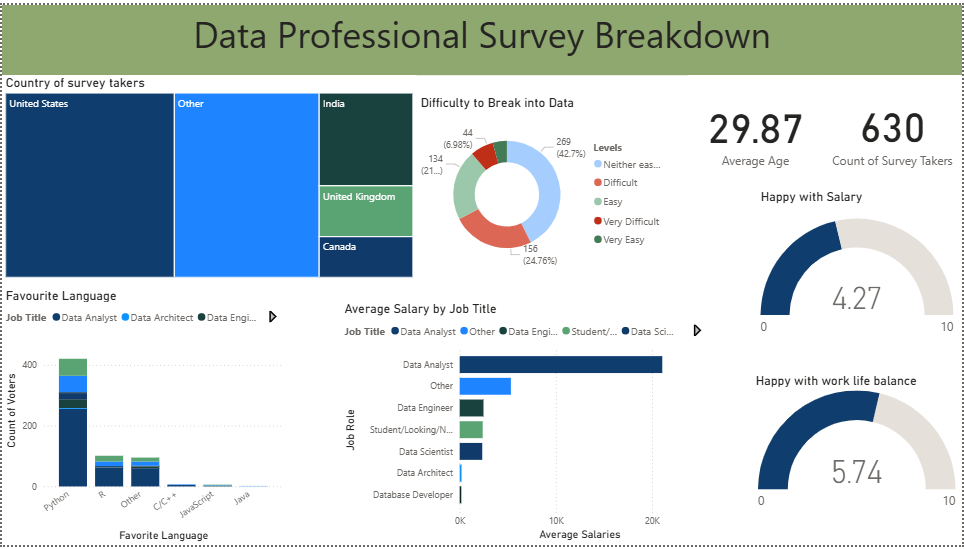

The dashboard page shown, as its layout file describes it:
{"tool":"powerbi","page":{"name":"Page 1","canvas":[1280,720],"ordinal":0},"visuals":[{"type":"textbox","box":[0,0,1280,93.3],"z":0},{"type":"card","fields":{"Values":["CountNonNull(Data Professional Survey.Unique ID)"]},"box":[1095.1,93.3,184.9,149.7],"z":1000},{"type":"card","fields":{"Values":["Avg(Data Professional Survey.Q10 - Current Age)"]},"box":[915.5,93.3,179.6,151.4],"z":2000},{"type":"barChart","title":"Average Salary by Job Title","fields":{"Category":["Data Professional Survey.Q1 - Which Title Best Fits your Current Role?.1"],"Y":["Sum(Data Professional Survey.Average salary)"],"Series":["Data Professional Survey.Q1 - Which Title Best Fits your Current Role?.1"]},"box":[451.4,395.8,494.3,324.2],"z":3000},{"type":"columnChart","title":"Favourite Language","fields":{"Category":["Data Professional Survey.Q5 - Favorite Programming Language.1"],"Y":["CountNonNull(Data Professional Survey.Unique ID)"],"Series":["Data Professional Survey.Q1 - Which Title Best Fits your Current Role?.1"]},"box":[0,376,380,344],"z":4000},{"type":"treemap","title":"Country of survey takers","fields":{"Group":["Data Professional Survey.Q11 - Which Country do you live in?.1"],"Values":["CountNonNull(Data Professional Survey.Q11 - Which Country do you live in?.1)"]},"box":[0,93.8,553.1,275],"z":5000},{"type":"gauge","title":"Happy with work life balance","fields":{"Y":["Avg(Data Professional Survey.Q6 - How Happy are you in your Current Position with the following? (Work/Life Balance))"],"MaxValue":["Max(Data Professional Survey.Q6 - How Happy are you in your Current Position with the following? (Work/Life Balance))1"],"MinValue":["Min(Data Professional Survey.Q6 - How Happy are you in your Current Position with the following? (Work/Life Balance))"]},"box":[999.7,489.5,279.7,192.3],"z":6000},{"type":"gauge","title":"Happy with Salary","fields":{"Y":["Avg(Data Professional Survey.Q6 - How Happy are you in your Current Position with the following? (Salary))"],"MinValue":["Min(Data Professional Survey.Q6 - How Happy are you in your Current Position with the following? (Salary))"],"MaxValue":["Max(Data Professional Survey.Q6 - How Happy are you in your Current Position with the following? (Salary))"]},"box":[1006.1,244.8,267,220.9],"z":7000},{"type":"donutChart","title":"Difficulty to Break into Data","fields":{"Category":["Data Professional Survey.Q7 - How difficult was it for you to break into Data?"],"Y":["CountNonNull(Data Professional Survey.Q7 - How difficult was it for you to break into Data?)"]},"box":[553.1,119.2,340.1,246.4],"z":8000}]}

Visuals, with their boxes in screenshot pixels (x1, y1, x2, y2), scaled from the page's 1280x720 canvas onto the 964x549 screenshot:
textbox: 0, 0, 963, 71
card - CountNonNull(Data Professional Survey.Unique ID): 825, 71, 963, 185
card - Avg(Data Professional Survey.Q10 - Current Age): 689, 71, 825, 187
"Average Salary by Job Title" barChart: 340, 302, 712, 548
"Favourite Language" columnChart: 0, 287, 286, 548
"Country of survey takers" treemap: 0, 72, 417, 281
"Happy with work life balance" gauge: 753, 373, 963, 520
"Happy with Salary" gauge: 758, 187, 959, 355
"Difficulty to Break into Data" donutChart: 417, 91, 673, 279
